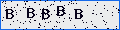B: (57, 6, 65, 16), (42, 9, 50, 19), (27, 8, 35, 18), (6, 9, 14, 19), (75, 9, 82, 19)
